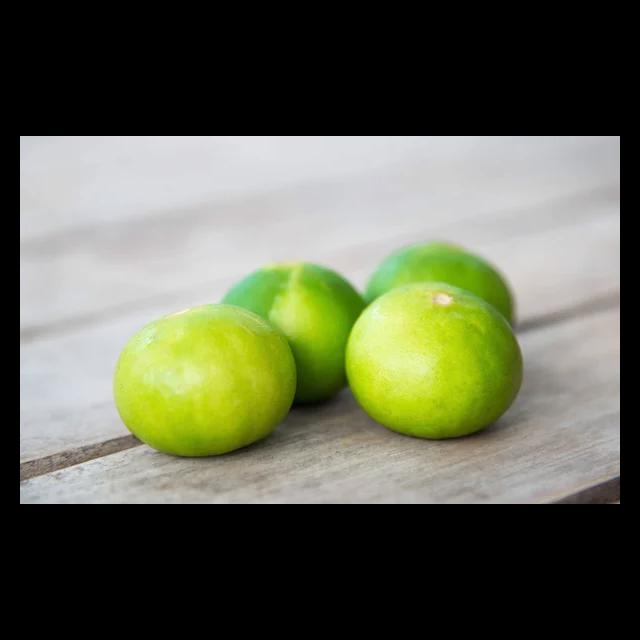lime: (339, 276, 532, 443), (107, 298, 299, 462), (203, 257, 372, 415), (359, 231, 523, 372)
